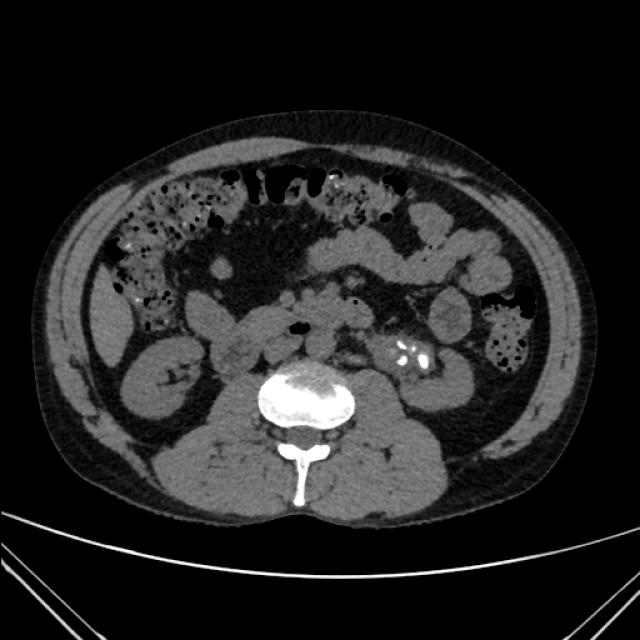kidneystone: (410, 346, 435, 367), (396, 355, 408, 366), (396, 341, 408, 349)
